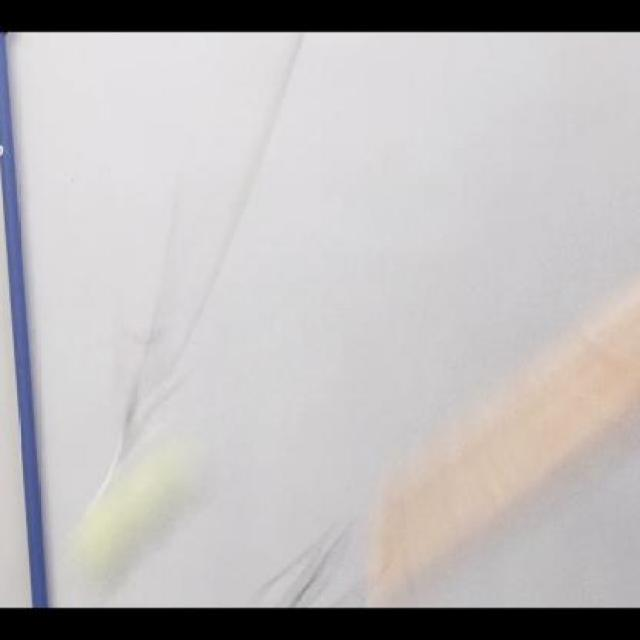baseball: (59, 430, 202, 592)
